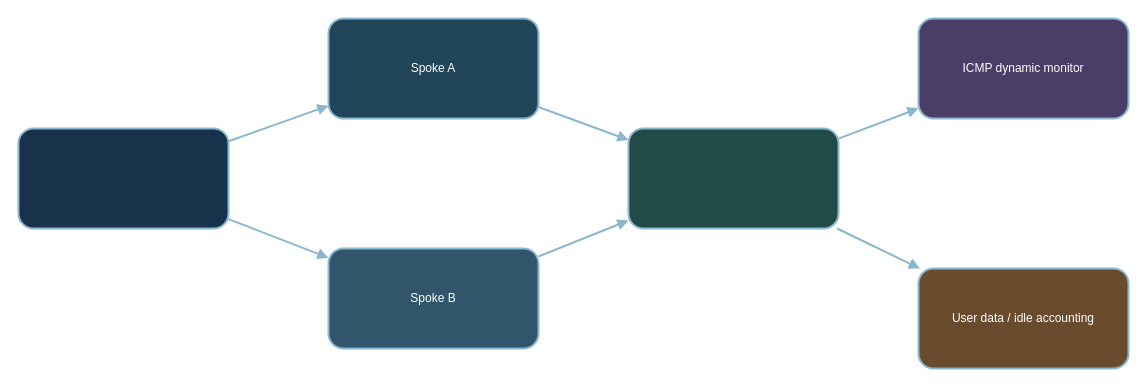
This 1146x386 diagram has some shape labels left out. The shapes that lost their labels are listed below. From the top down, each one's box as (x1, y1, x2, y2) in pixels, then its label:
(17, 127, 229, 229): Hub
(627, 127, 839, 229): ADVPN shortcut
